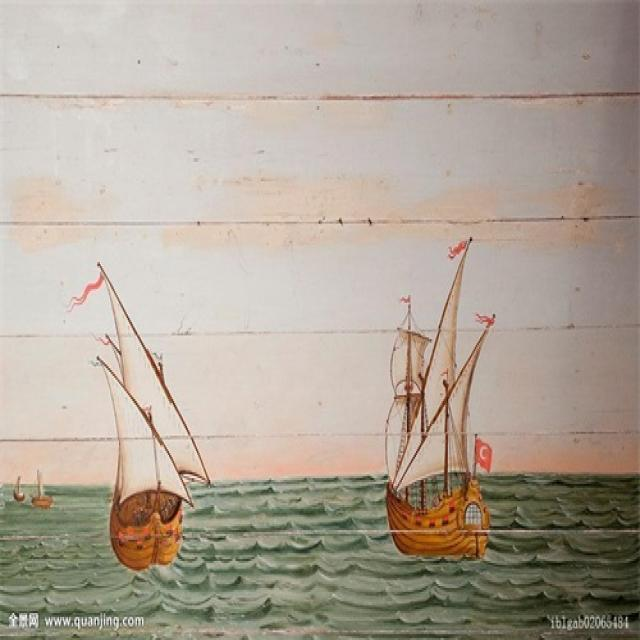Ship: (371, 233, 504, 573), (78, 244, 212, 573)
